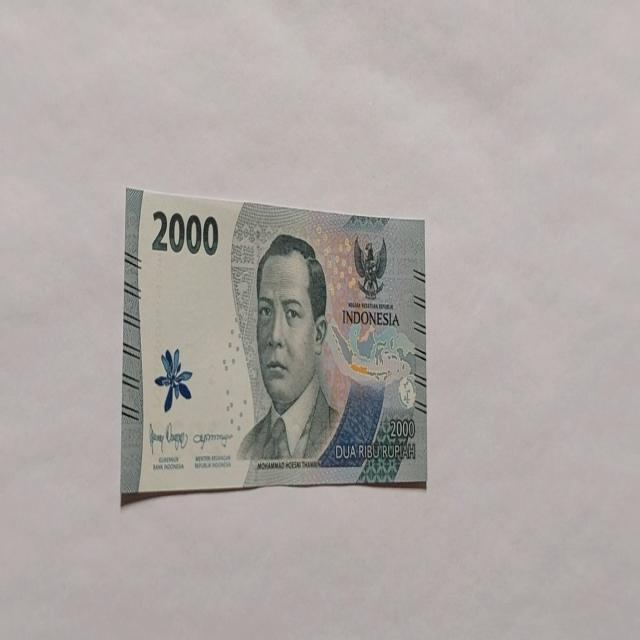dua ribu rupiah: (120, 186, 428, 504), (236, 232, 342, 465)
